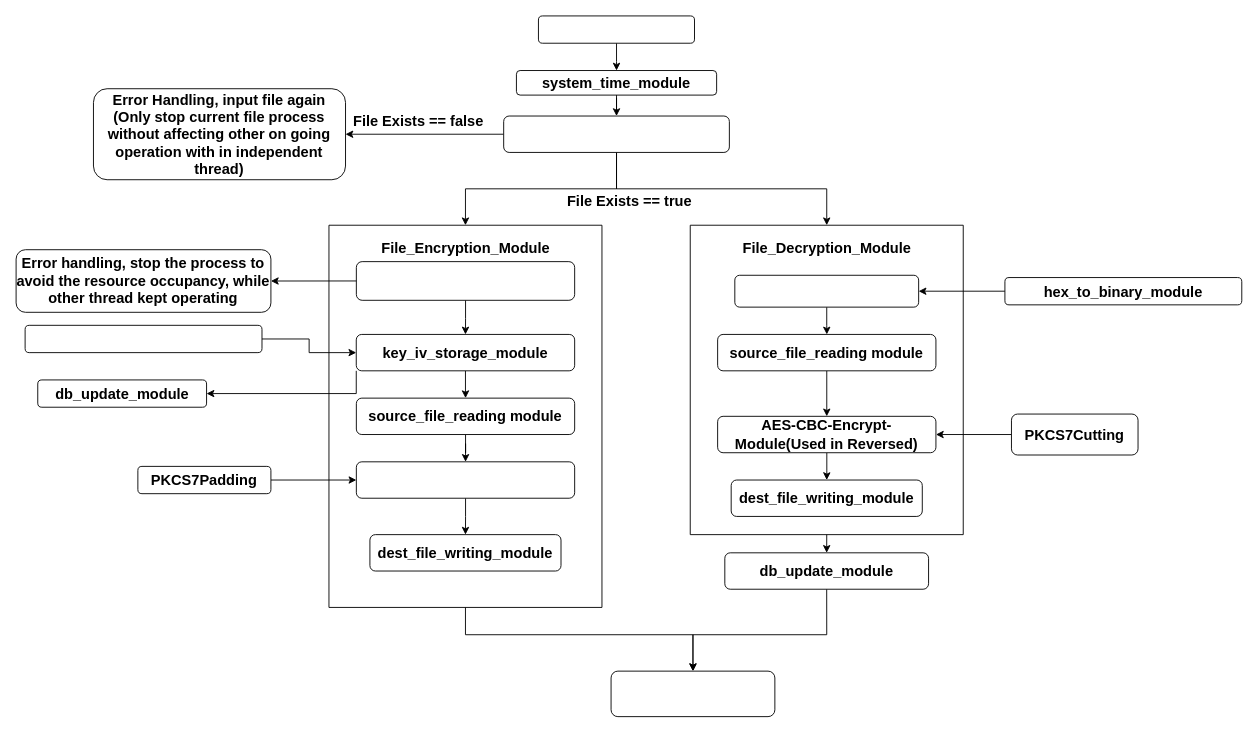
Some shapes in this 1258 by 733 pixel diagram are drawn without their labels. The shapes that lost their labels are listed below. From the top down, each one's centre as x and y in pixels, then its label:
At point 616,29: "file_process_module".
At point 616,133: "file_existence_check_module".
At point 465,280: "key_iv_generation_module".
At point 826,290: "key_iv_loading_module".
At point 143,338: "binary_to_hex_transfer_module".
At point 465,479: "AES-CBC-Encrypt-Module".
At point 692,693: "file_delete_module".
